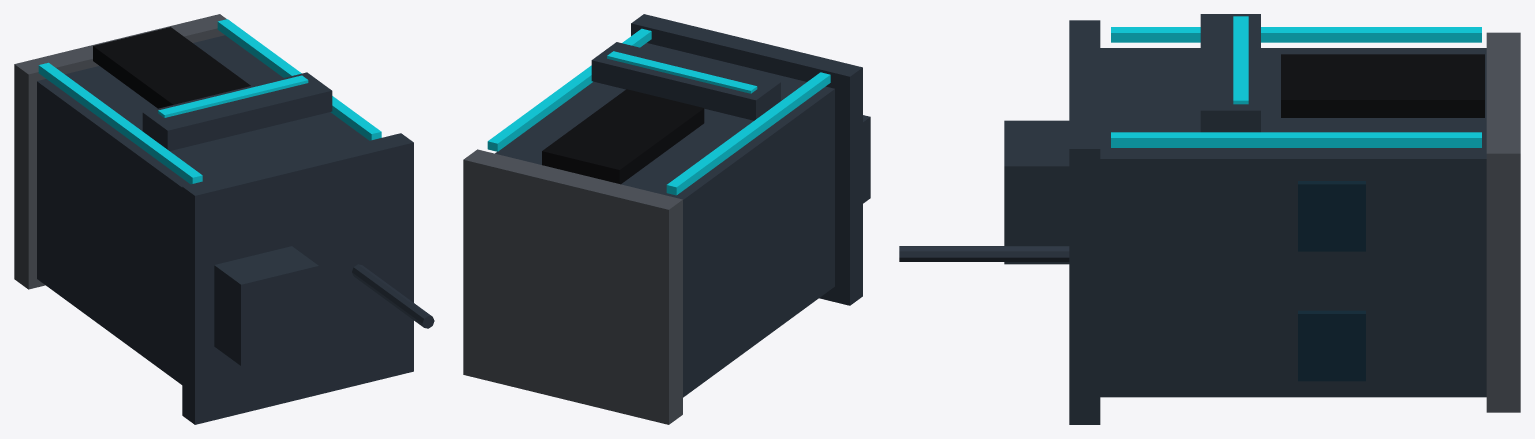
The model's file is ENV_building_transit.obj.
3 renders of one model, left to right at view 1: azimuth 30°, elevation 25°; view 2: azimuth 150°, elevation 25°; view 3: azimuth 270°, elevation 25°, orthographic. The views are drawn at different scales.
Visible parts, largest first — view 1: ENV_building_transit; view 2: ENV_building_transit; view 3: ENV_building_transit.
Boxes of the visible parts, x1,y1,x2,y2 form: ENV_building_transit: [14, 14, 434, 424]; ENV_building_transit: [463, 14, 870, 424]; ENV_building_transit: [899, 14, 1520, 424].
Size of the model in its own units: 1.97 by 2.16 by 4.02.
